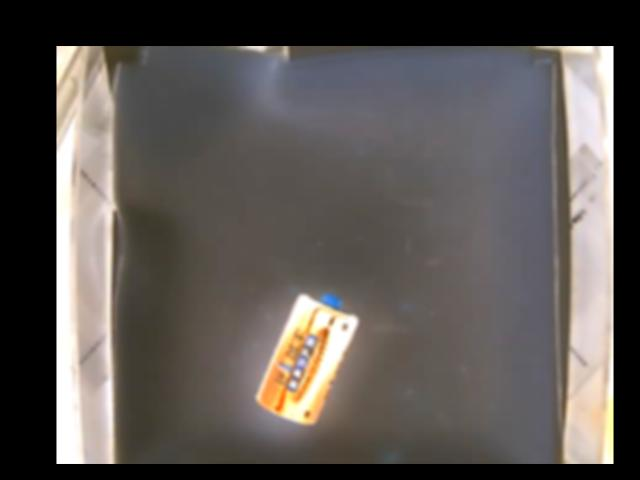Battery: (257, 294, 359, 424)
